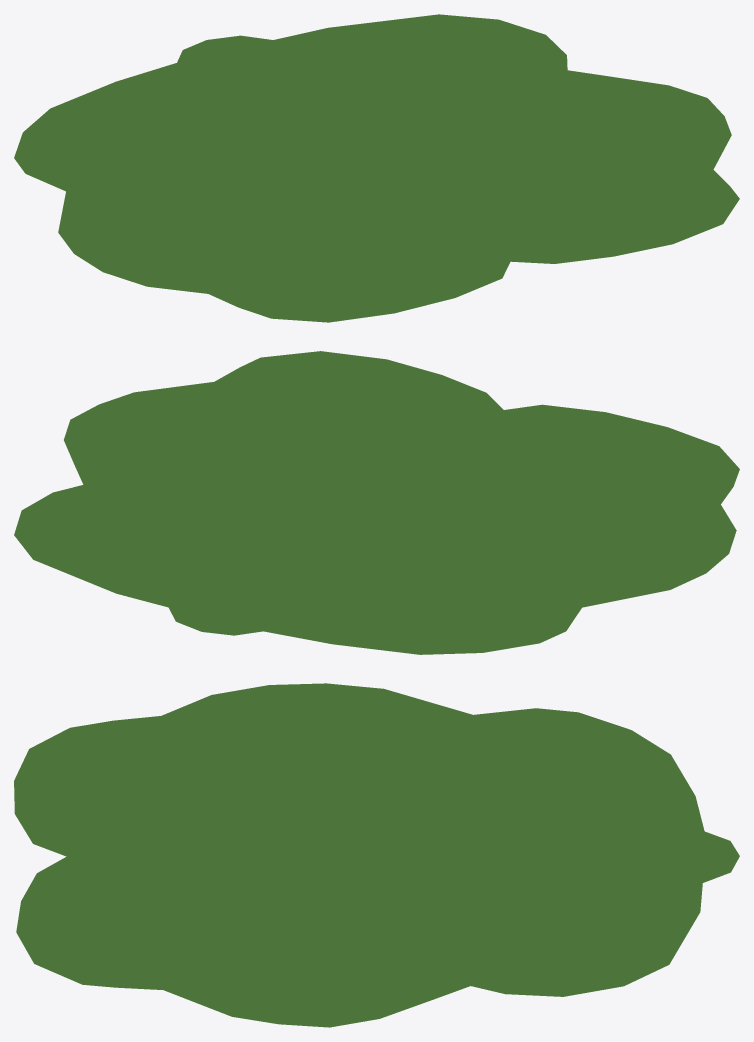
The model's file is plant_water_lily_pad_E.fbx.
The picture shows the model from 3 angles, top to bottom: view 1: azimuth 30°, elevation 25°; view 2: azimuth 150°, elevation 25°; view 3: azimuth 270°, elevation 25°; orthographic projection. The views are drawn at different scales.
Parts seen in each view (by area): view 1: plant_water_lily_pad_E; view 2: plant_water_lily_pad_E; view 3: plant_water_lily_pad_E.
Part boxes in pixels (bbox=[...]): plant_water_lily_pad_E: bbox=[14, 14, 739, 322]; plant_water_lily_pad_E: bbox=[14, 351, 739, 654]; plant_water_lily_pad_E: bbox=[14, 683, 739, 1027].
Size of the model in its own units: 12.02 by 0.00451 by 10.71.
